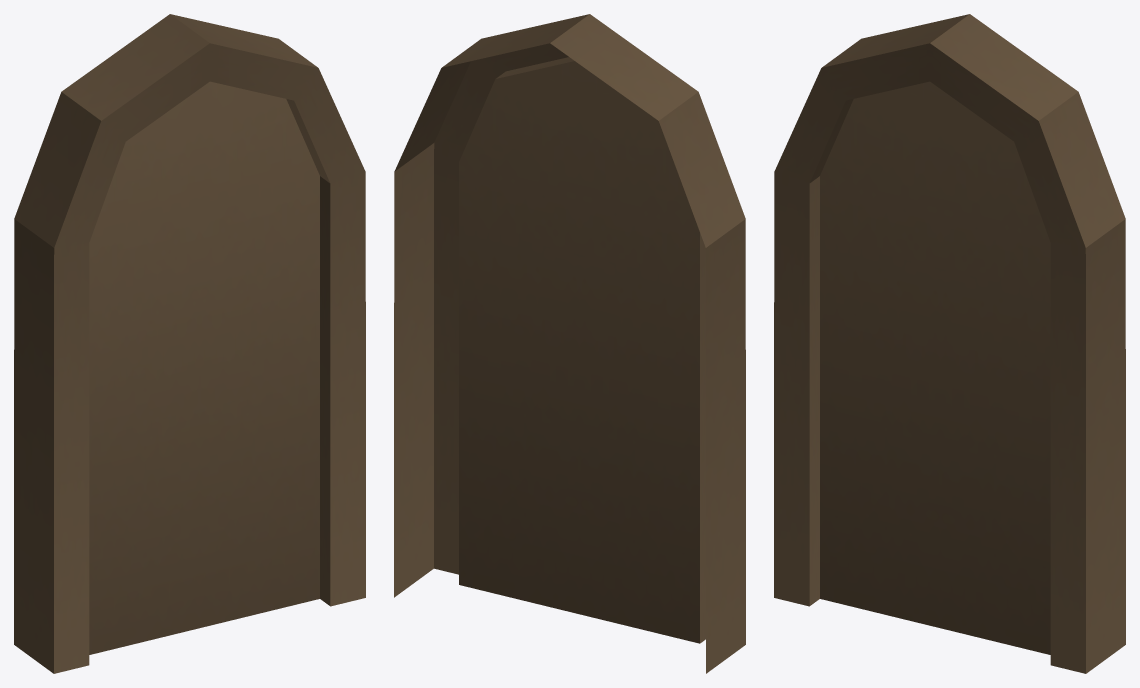
File: ZLP_Build_D_10.FBX
3 renders of one model, left to right at view 1: azimuth 30°, elevation 25°; view 2: azimuth 150°, elevation 25°; view 3: azimuth 330°, elevation 25°, orthographic.
Parts seen in each view (by area): view 1: ZLP_Build_D_10; view 2: ZLP_Build_D_10; view 3: ZLP_Build_D_10.
Part boxes in pixels (<box>): ZLP_Build_D_10: <box>14,14,365,673</box>; ZLP_Build_D_10: <box>394,14,745,673</box>; ZLP_Build_D_10: <box>774,14,1125,673</box>.
Bounding box in the file's own units: 118 × 215 × 26.26.
